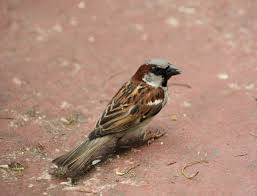hsparrow: (50, 54, 184, 179)
